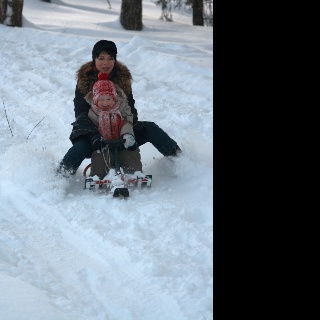without_mask: (95, 49, 115, 73)
